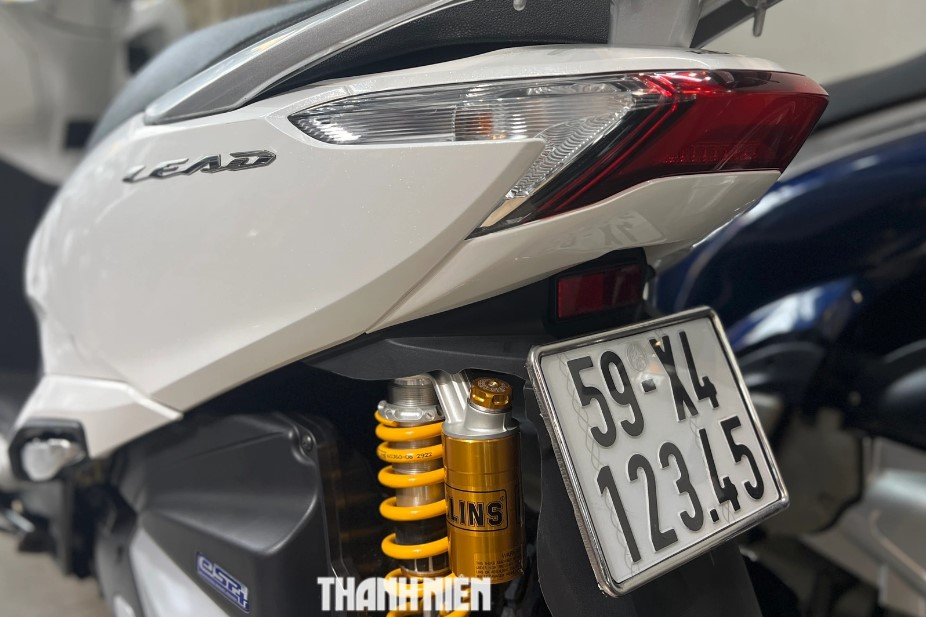bien_so: (519, 296, 796, 603)
